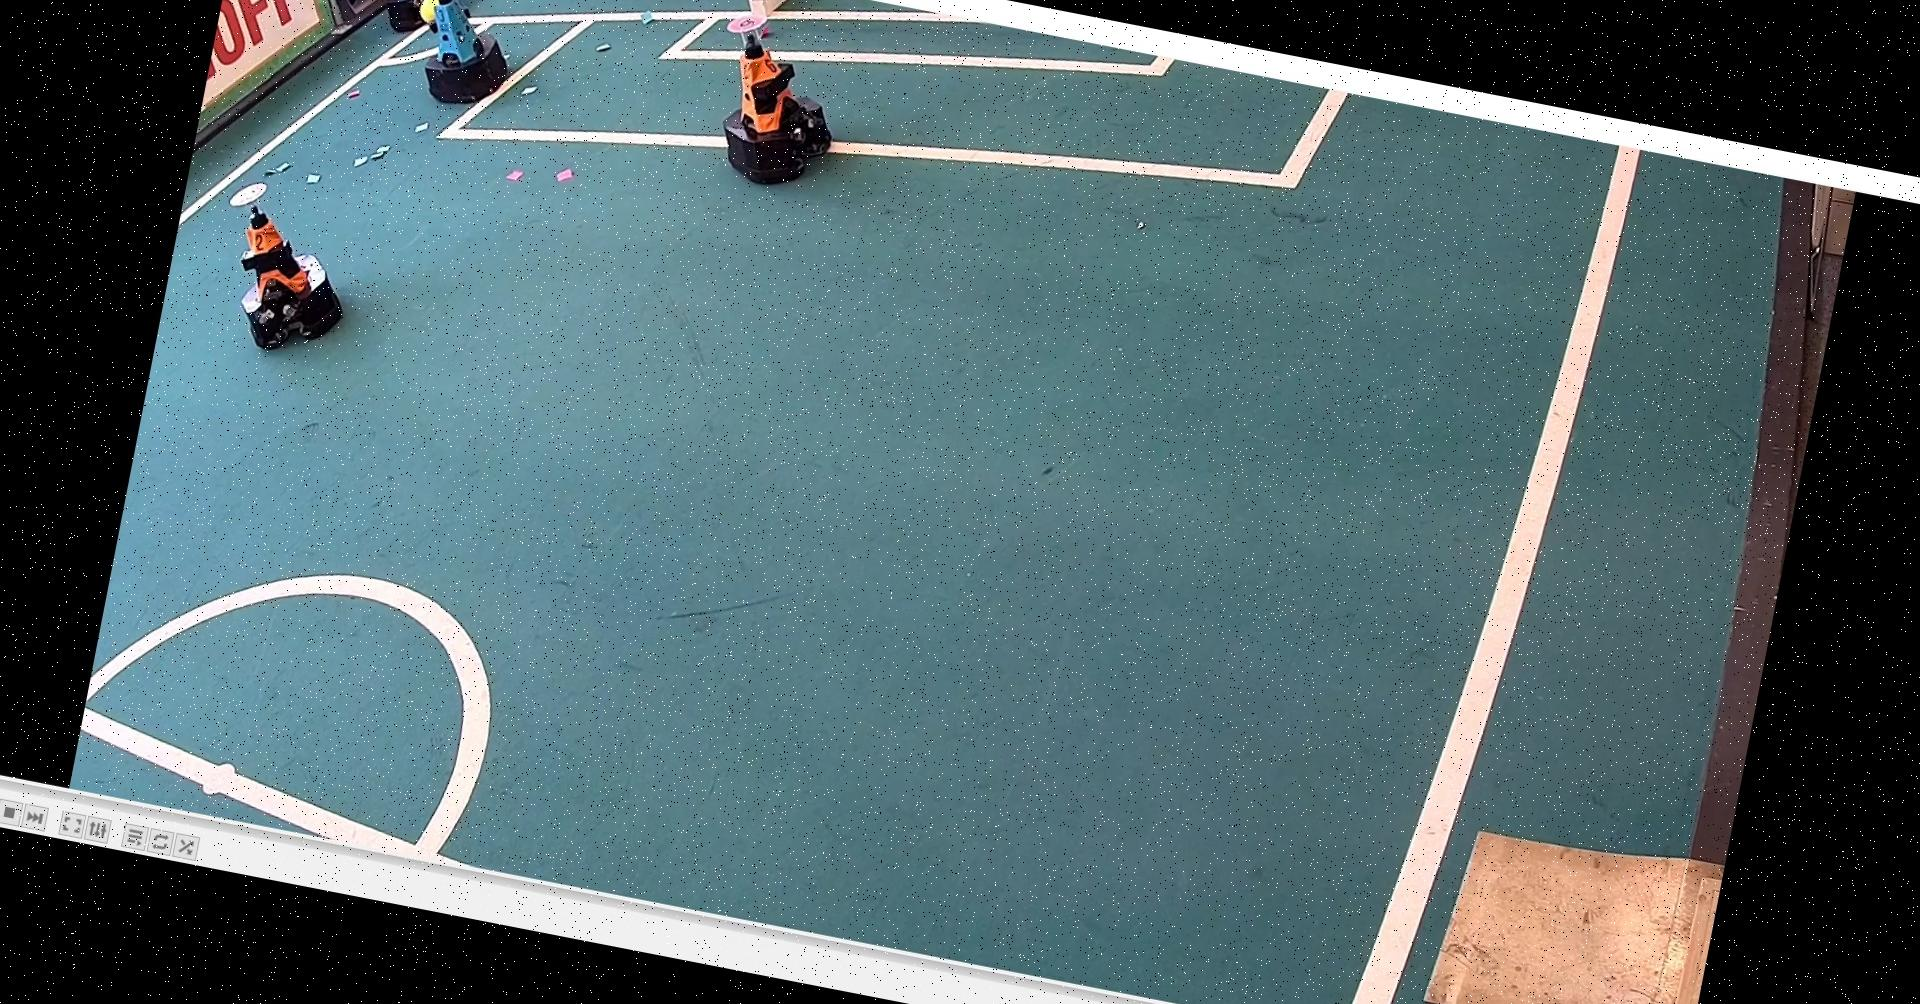Ball: (406, 0, 458, 30)
Team_Blue: (397, 0, 524, 113), (357, 0, 457, 37)
Team_Red: (199, 176, 373, 364), (693, 4, 852, 198)
